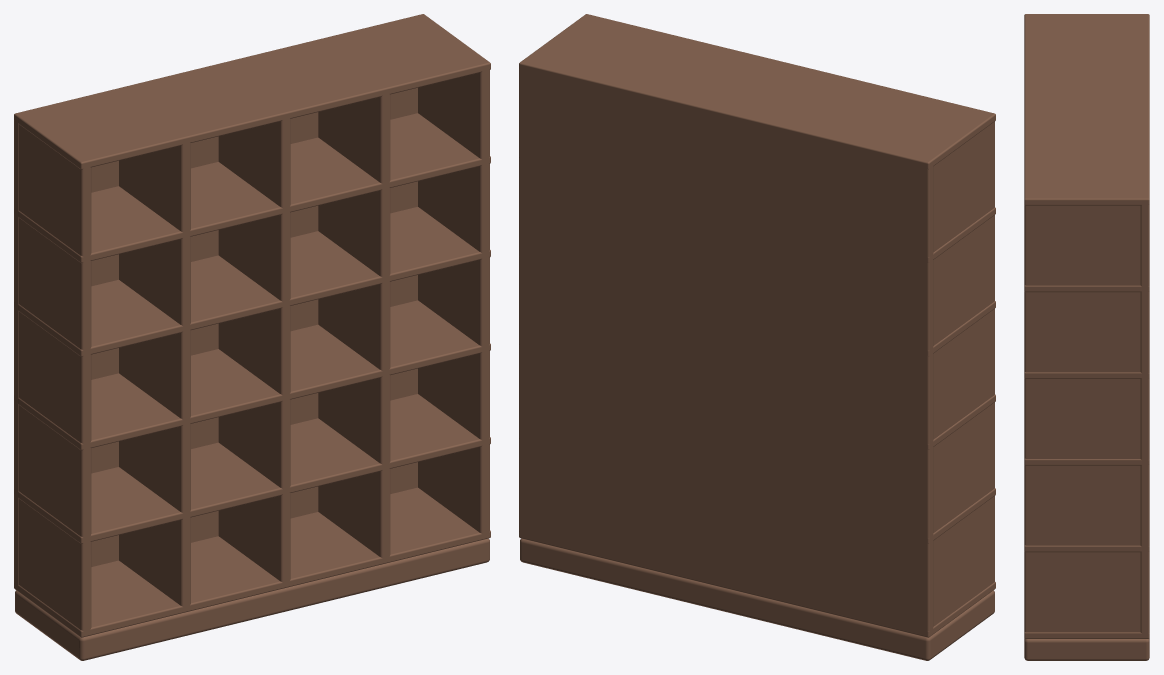
File: griffin-airmail-roost-and-posthouse-pigeonhole-mail-ca-c8e41aed__30516.glb
The picture shows the model from 3 angles, left to right: view 1: azimuth 30°, elevation 25°; view 2: azimuth 150°, elevation 25°; view 3: azimuth 270°, elevation 25°; orthographic projection. The views are drawn at different scales.
Visible parts, largest first — view 1: pigeonhole-mail-cabinet; view 2: pigeonhole-mail-cabinet; view 3: pigeonhole-mail-cabinet.
Boxes of the visible parts, <box> form: pigeonhole-mail-cabinet: <box>14,14,490,660</box>; pigeonhole-mail-cabinet: <box>519,14,995,660</box>; pigeonhole-mail-cabinet: <box>1024,14,1149,660</box>.
Bounding box in the file's own units: 1.4 × 1.63 × 0.4.
